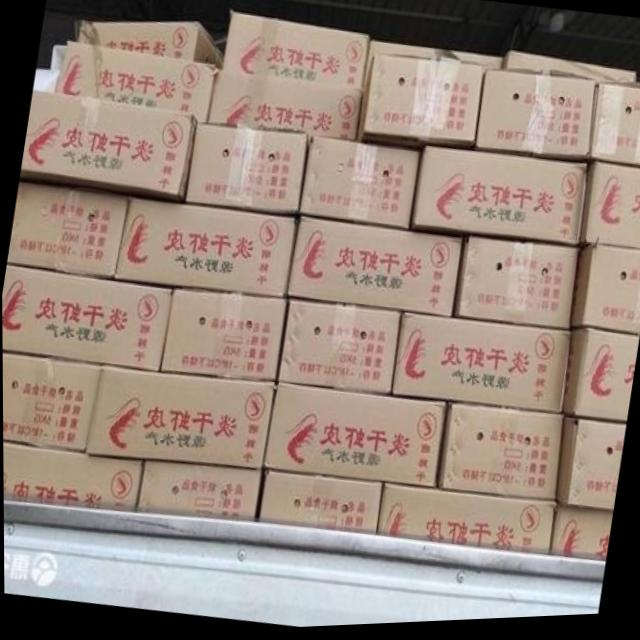box: (262, 383, 443, 493), (21, 89, 195, 203), (84, 368, 275, 469), (113, 195, 298, 297), (390, 313, 570, 417), (2, 263, 168, 374), (285, 217, 462, 320), (410, 151, 586, 251), (54, 41, 216, 124), (434, 407, 563, 503), (357, 60, 484, 156), (159, 291, 287, 386), (378, 487, 554, 556), (276, 301, 403, 395), (8, 181, 127, 280), (451, 240, 579, 332), (185, 123, 309, 216), (298, 138, 422, 230), (221, 14, 369, 90), (476, 72, 594, 163), (206, 71, 361, 140), (2, 352, 100, 452), (3, 443, 140, 509), (257, 472, 382, 535), (559, 333, 638, 427), (136, 460, 263, 517), (74, 22, 224, 70), (553, 418, 624, 515), (567, 251, 640, 340), (362, 44, 502, 85), (578, 164, 640, 255), (501, 57, 637, 90), (590, 87, 640, 168), (549, 501, 612, 562)
